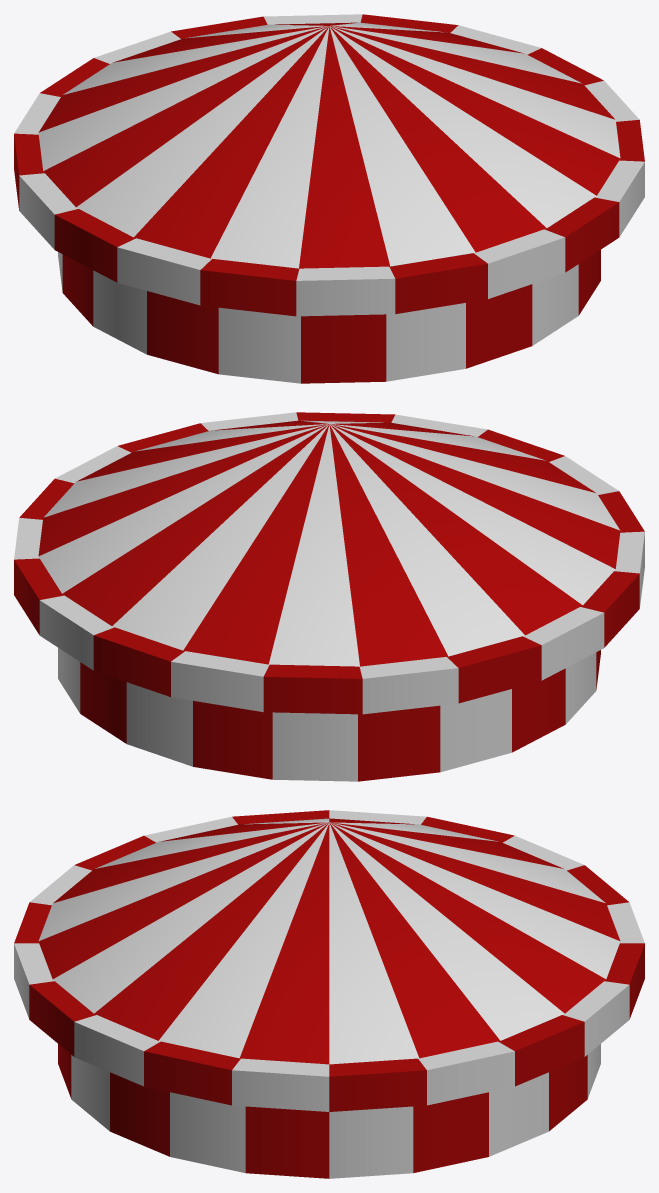
Rendered from Big Top.fbx.
3 views of the same model, one above another, from view 1: azimuth 30°, elevation 25°; view 2: azimuth 150°, elevation 25°; view 3: azimuth 270°, elevation 25° (orthographic).
Parts seen in each view (by area): view 1: pCylinder4; view 2: pCylinder4; view 3: pCylinder4.
Boxes of the visible parts, left/top/right/bottom form: pCylinder4: left=14, top=14, right=644, bottom=383; pCylinder4: left=14, top=412, right=644, bottom=781; pCylinder4: left=14, top=810, right=644, bottom=1178.
Bounding box in the file's own units: 28.79 × 12.17 × 28.79.
